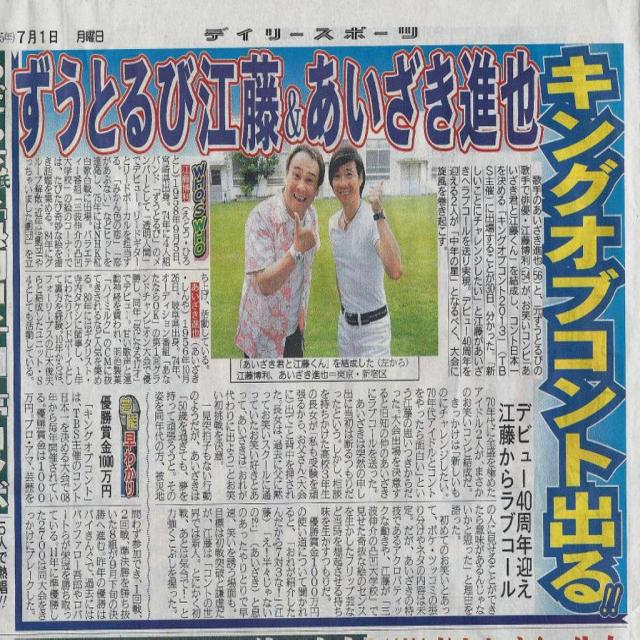nomask: (286, 148, 320, 216), (331, 157, 358, 205)
